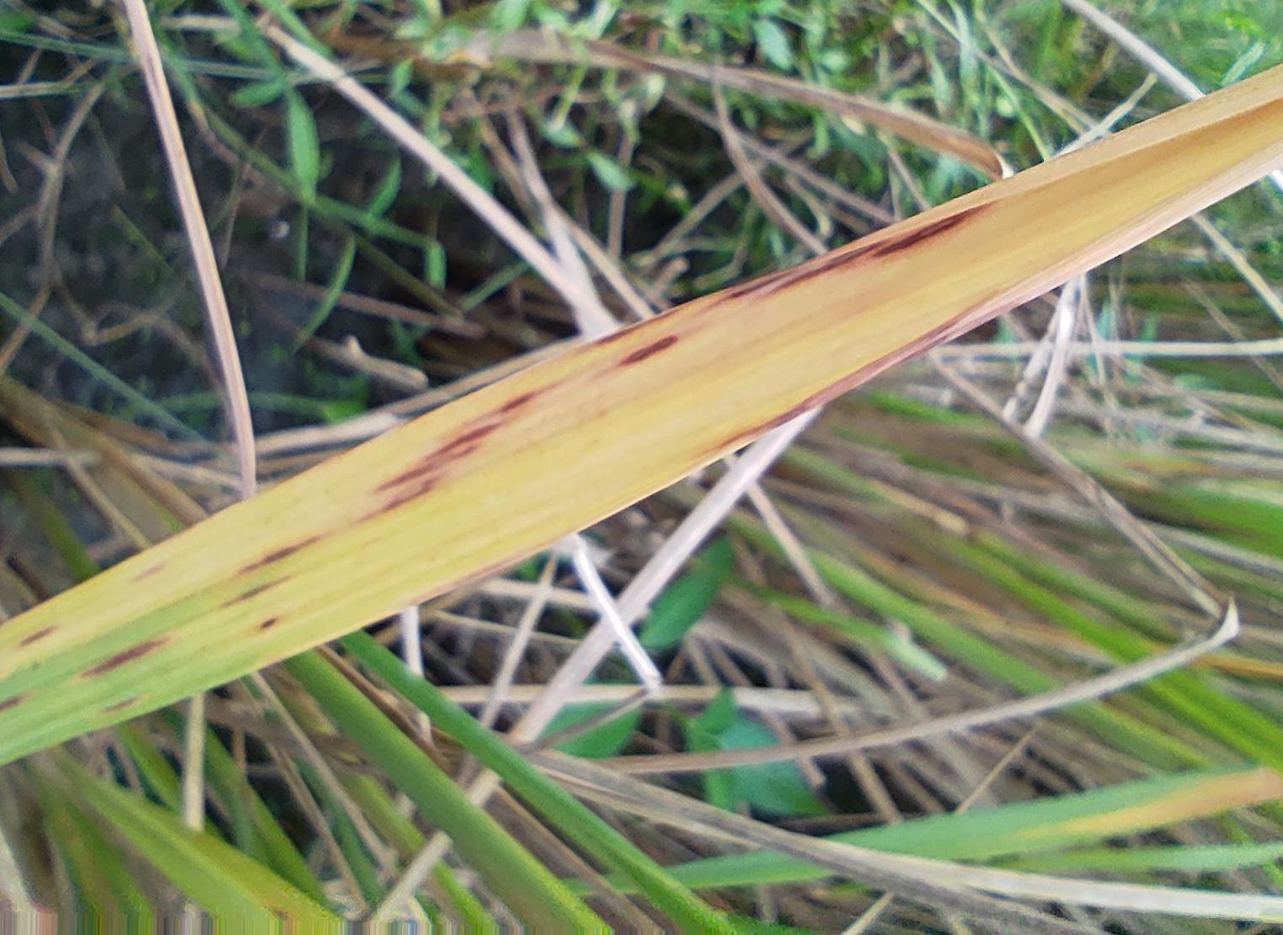LEAF: (0, 67, 1282, 763)
NBS: (874, 199, 1000, 257), (769, 240, 891, 292), (355, 477, 442, 523), (236, 536, 324, 574), (81, 641, 163, 677), (595, 310, 679, 345), (426, 423, 504, 459), (223, 575, 290, 607), (378, 463, 445, 491), (727, 271, 791, 300), (622, 335, 680, 364), (17, 625, 59, 648), (499, 391, 535, 412), (132, 562, 166, 581), (1, 692, 32, 712), (103, 697, 142, 712), (452, 441, 482, 458), (258, 617, 280, 630)
